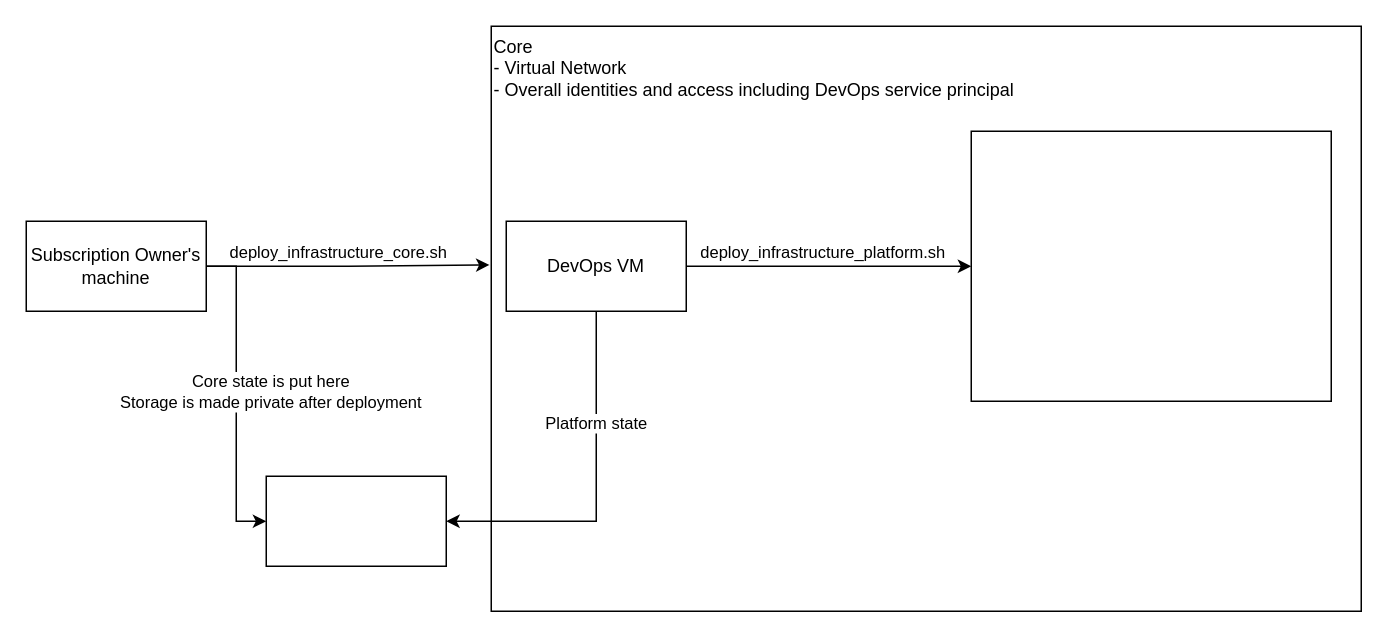
This 1388x638 diagram has some shape labels left out. The shapes that lost their labels are listed below. From the top down, each one's centre as x and y in pixels, then its label:
At point (1150, 265): "Platform - Application specific infrastructure".
At point (355, 520): "Storage Account Terraform state".
